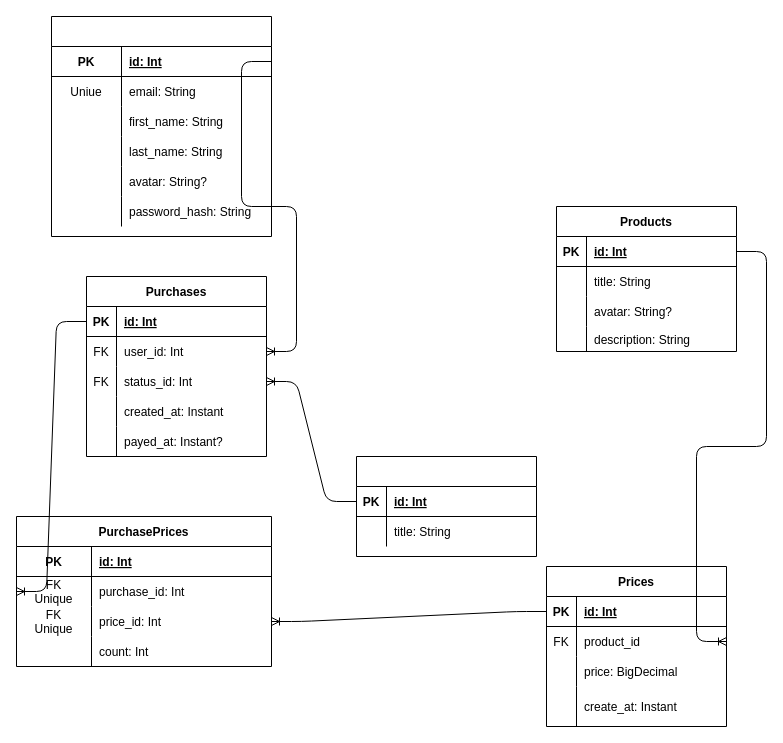
This 783x743 diagram has some shape labels left out. The box of each missing label's shape, as (x1, y1, x2, y2) in pixels:
PurchaseStatuses: (356, 456, 536, 556)
Users: (50, 16, 272, 236)
